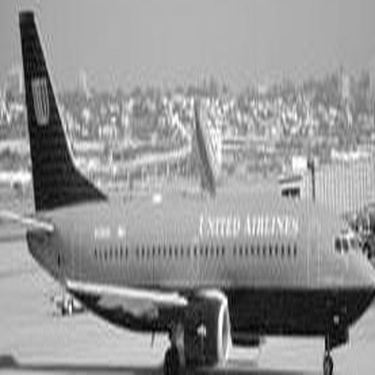airplane: (6, 1, 371, 371)
